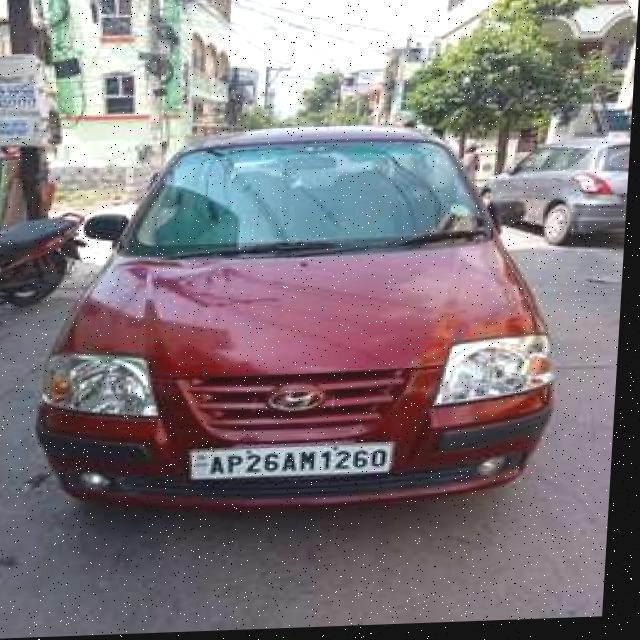plate: (195, 445, 400, 485)
